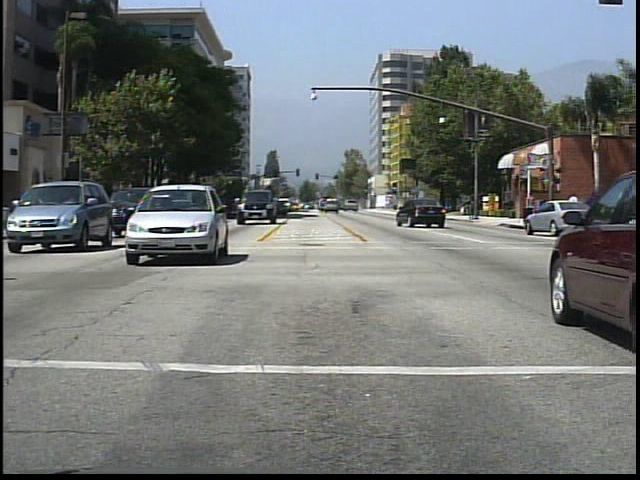person: (567, 190, 588, 235), (521, 191, 539, 229)
